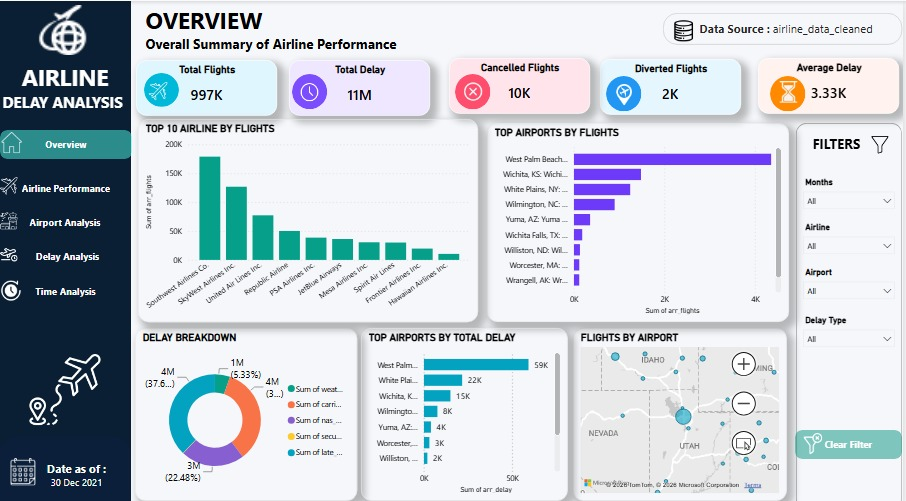

This screenshot's page, from the dashboard's own definition file:
{"tool":"powerbi","page":{"name":"Overview","canvas":[1280,720],"ordinal":0},"visuals":[{"type":"shape","box":[0,0,187.2,720],"z":0},{"type":"actionButton","box":[1.4,182.8,187.1,41.1],"z":1000},{"type":"textbox","box":[202.7,0,406.8,83.6],"z":2000},{"type":"cardVisual","title":"Total Flights","fields":{"Data":["airline_data_cleaned.Total Flights"]},"box":[194,83.6,200,79.4],"z":3000},{"type":"actionButton","box":[1.4,245.2,187.1,39.7],"z":4000},{"type":"actionButton","box":[0,293.4,187.1,39.7],"z":5000},{"type":"actionButton","box":[2.8,341.6,188.5,39.7],"z":6000},{"type":"actionButton","box":[1.4,391.2,185.7,39.7],"z":7000},{"type":"cardVisual","title":"Diverted Flights","fields":{"Data":["airline_data_cleaned.Diverted Flights"]},"box":[851.8,82.2,199.8,79.4],"z":8000},{"type":"donutChart","title":"DELAY BREAKDOWN","fields":{"Y":["Sum(airline_data_cleaned.weather_delay)","Sum(airline_data_cleaned.carrier_delay)","Sum(airline_data_cleaned.nas_delay)","Sum(airline_data_cleaned.security_delay)","Sum(airline_data_cleaned.late_aircraft_delay)"]},"box":[192.8,463.5,314.6,245.2],"z":9000},{"type":"map","title":"FLIGHTS BY AIRPORT","fields":{"Category":["airline_data_cleaned.airport_name"],"Size":["Sum(airline_data_cleaned.arr_flights)"]},"box":[813.5,463.5,303.3,245.2],"z":10000},{"type":"cardVisual","title":"Cancelled Flights","fields":{"Data":["airline_data_cleaned.Cancelled Flights"]},"box":[637.8,80.8,199.8,79.4],"z":11000},{"type":"cardVisual","title":"Total  Delay","fields":{"Data":["airline_data_cleaned.Total Delay"]},"box":[411.5,83.9,200.2,79.2],"z":12000},{"type":"slicer","fields":{"Values":["airline_data_cleaned.airport"]},"box":[1129.8,372.8,150.2,49.6],"z":13000},{"type":"clusteredBarChart","title":"TOP AIRPORTS BY FLIGHTS","fields":{"Category":["airline_data_cleaned.airport_name"],"Y":["Sum(airline_data_cleaned.arr_flights)"]},"box":[691.7,172.9,428,282],"z":14000},{"type":"clusteredColumnChart","title":"TOP 10 AIRLINE BY FLIGHTS","fields":{"Y":["Sum(airline_data_cleaned.arr_flights)"],"Category":["airline_data_cleaned.carrier_name"]},"box":[197,167.2,481.9,287.7],"z":16000},{"type":"clusteredBarChart","title":"TOP AIRPORTS BY TOTAL DELAY","fields":{"Category":["airline_data_cleaned.airport_name"],"Y":["Sum(airline_data_cleaned.arr_delay)"]},"box":[513.1,463.5,293.4,245.2],"z":17000},{"type":"shape","box":[205.5,102,49.6,48.2],"z":18000},{"type":"cardVisual","title":"Average Delay","fields":{"Data":["airline_data_cleaned.Avg Delay"]},"box":[1076.4,81,200.2,79.2],"z":19000},{"type":"image","box":[1.4,249.4,25,25],"z":20000},{"type":"image","box":[2.8,185.7,30,30],"z":21000},{"type":"image","box":[1.4,298.7,25,25],"z":22000},{"type":"image","box":[1.4,347.4,25,25],"z":23000},{"type":"image","box":[1.4,395.4,31.2,29.8],"z":24000},{"type":"image","box":[205.5,114.8,39.7,25.5],"z":26000},{"type":"shape","box":[415.8,103.8,50,50],"z":27000},{"type":"image","box":[419.5,116.2,41.1,25.5],"z":28000},{"type":"shape","box":[646,104,50.4,50.4],"z":29000},{"type":"image","box":[652,113.4,39.7,29.8],"z":30000},{"type":"shape","box":[860.6,106.8,50.4,50.4],"z":31000},{"type":"image","box":[866,117.6,39.7,29.8],"z":32000},{"type":"shape","box":[1093.3,106.8,50.4,50.4],"z":33000},{"type":"image","box":[1098.4,113.4,41.1,31.2],"z":34000},{"type":"image","box":[0,500.3,187.1,100.6],"z":35000},{"type":"shape","box":[0,616.3,187.2,103.7],"z":36000},{"type":"image","box":[11.5,648,44.6,38.9],"z":37000},{"type":"actionButton","box":[1133.9,185.7,106.3,28.3],"z":38000},{"type":"image","box":[1233.1,191.3,30,25],"z":39000},{"type":"shape","box":[1129.6,172.9,150.2,547.1],"z":40000},{"type":"slicer","fields":{"Values":["airline_data_cleaned.month"]},"box":[1129.8,245.2,150.2,49.6],"z":41000},{"type":"slicer","fields":{"Values":["airline_data_cleaned.arr_delay"]},"box":[1129.8,440.8,150.2,49.6],"z":42000},{"type":"slicer","fields":{"Values":["airline_data_cleaned.arr_flights"]},"box":[1129.8,309,150.2,49.6],"z":43000},{"type":"image","box":[49.6,5.7,80.8,70.9],"z":44000},{"type":"textbox","box":[0,80.8,187.1,92.1],"z":45000},{"type":"actionButton","box":[56.7,647.7,106.3,28.3],"z":46000},{"type":"actionButton","box":[56.7,667.6,106.3,28.3],"z":47000},{"type":"textbox","box":[941.1,17,338.7,45],"z":48000},{"type":"image","box":[955.3,21.3,30,41.1],"z":49000},{"type":"actionButton","box":[1128.2,608,151.7,41.1],"z":50000},{"type":"image","box":[1129.6,612.3,48.2,29.8],"z":51000}]}

Visuals, with their boxes in screenshot pixels (x1, y1, x2, y2), scaled from the page's 1280x720 canvas onto the 906x501 screenshot:
shape: region(0, 0, 133, 500)
actionButton: region(1, 127, 133, 156)
textbox: region(143, 0, 431, 58)
"Total Flights" cardVisual: region(137, 58, 279, 113)
actionButton: region(1, 171, 133, 198)
actionButton: region(0, 204, 132, 232)
actionButton: region(2, 238, 135, 265)
actionButton: region(1, 272, 132, 300)
"Diverted Flights" cardVisual: region(603, 57, 744, 112)
"DELAY BREAKDOWN" donutChart: region(136, 323, 359, 493)
"FLIGHTS BY AIRPORT" map: region(576, 323, 790, 493)
"Cancelled Flights" cardVisual: region(451, 56, 593, 111)
"Total  Delay" cardVisual: region(291, 58, 433, 113)
slicer - airline_data_cleaned.airport: region(800, 259, 905, 294)
"TOP AIRPORTS BY FLIGHTS" clusteredBarChart: region(490, 120, 793, 317)
"TOP 10 AIRLINE BY FLIGHTS" clusteredColumnChart: region(139, 116, 481, 317)
"TOP AIRPORTS BY TOTAL DELAY" clusteredBarChart: region(363, 323, 571, 493)
shape: region(145, 71, 181, 105)
"Average Delay" cardVisual: region(762, 56, 904, 111)
image: region(1, 174, 19, 191)
image: region(2, 129, 23, 150)
image: region(1, 208, 19, 225)
image: region(1, 242, 19, 259)
image: region(1, 275, 23, 296)
image: region(145, 80, 174, 98)
shape: region(294, 72, 330, 107)
image: region(297, 81, 326, 99)
shape: region(457, 72, 493, 107)
image: region(461, 79, 490, 100)
shape: region(609, 74, 645, 109)
image: region(613, 82, 641, 103)
shape: region(774, 74, 810, 109)
image: region(777, 79, 807, 101)
image: region(0, 348, 132, 418)
shape: region(0, 429, 133, 500)
image: region(8, 451, 40, 478)
actionButton: region(803, 129, 878, 149)
image: region(873, 133, 894, 151)
shape: region(800, 120, 905, 500)
slicer - airline_data_cleaned.month: region(800, 171, 905, 205)
slicer - airline_data_cleaned.arr_delay: region(800, 307, 905, 341)
slicer - airline_data_cleaned.arr_flights: region(800, 215, 905, 250)
image: region(35, 4, 92, 53)
textbox: region(0, 56, 132, 120)
actionButton: region(40, 451, 115, 470)
actionButton: region(40, 465, 115, 484)
textbox: region(666, 12, 905, 43)
image: region(676, 15, 697, 43)
actionButton: region(799, 423, 905, 452)
image: region(800, 426, 834, 447)
